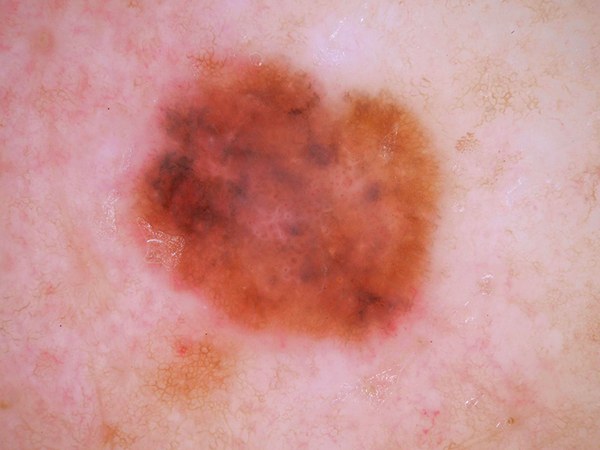Detected Lesion: (122, 51, 454, 355)
